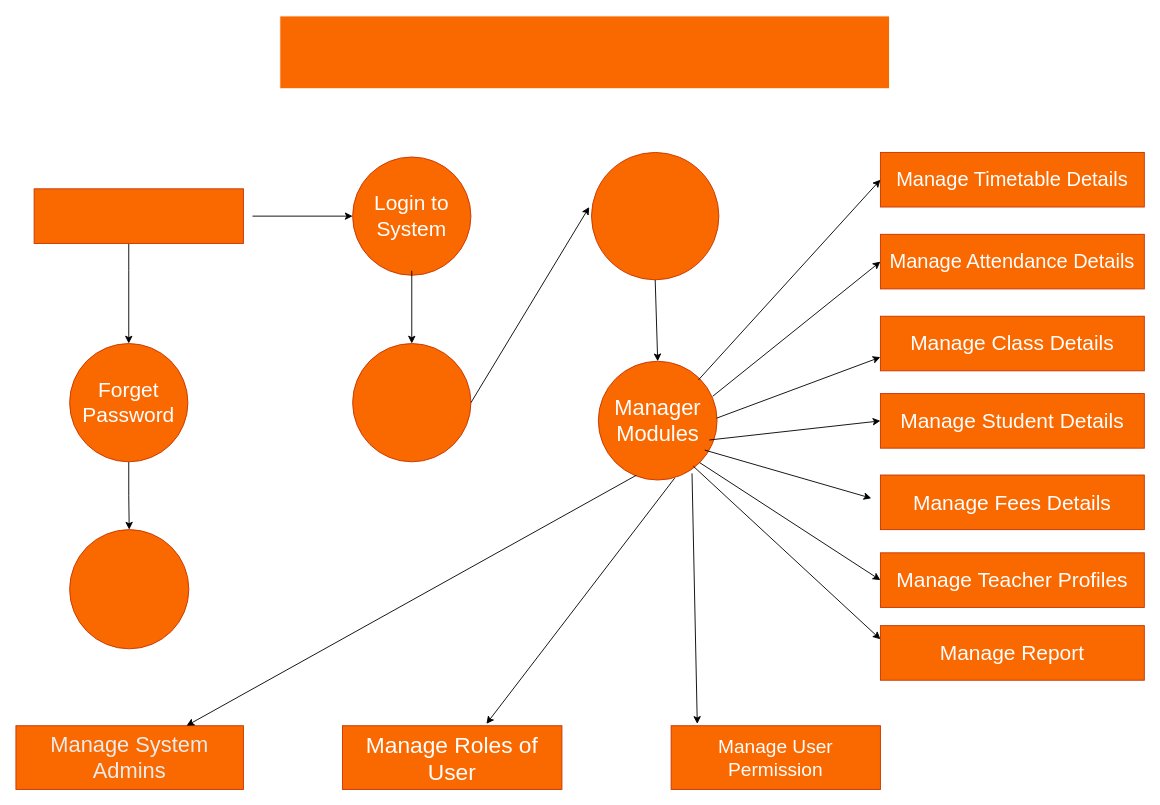
Image size: 1160x805. Some labels were removed from this diagram. Here are the shapes that lost their labels. From the top down, the centre of each, then its label:
At (584,52): "Student Information System".
At (138,215): "Admin".
At (655,216): "Check Roles of Access".
At (411,402): "Check Credentials".
At (129,589): "Send Email to User".
